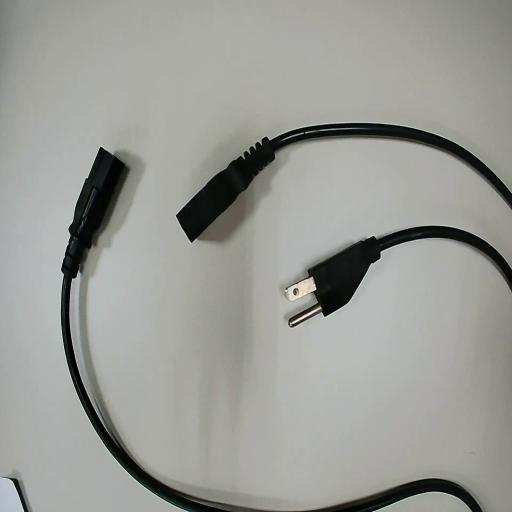wire: (62, 149, 228, 511), (177, 124, 511, 240), (290, 227, 511, 320)
